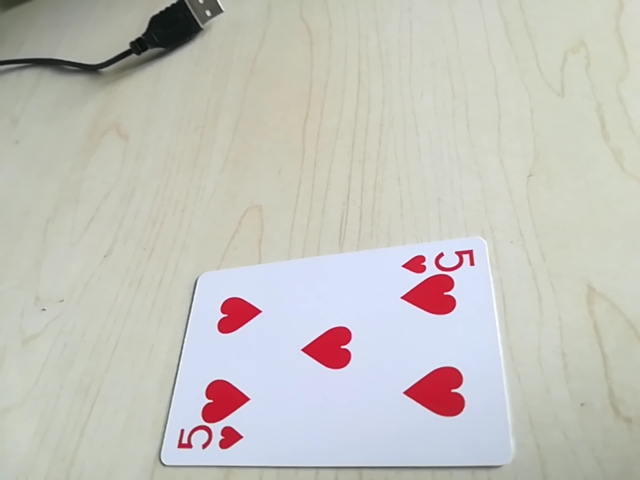hx 5: (397, 241, 482, 276), (171, 424, 245, 461)
